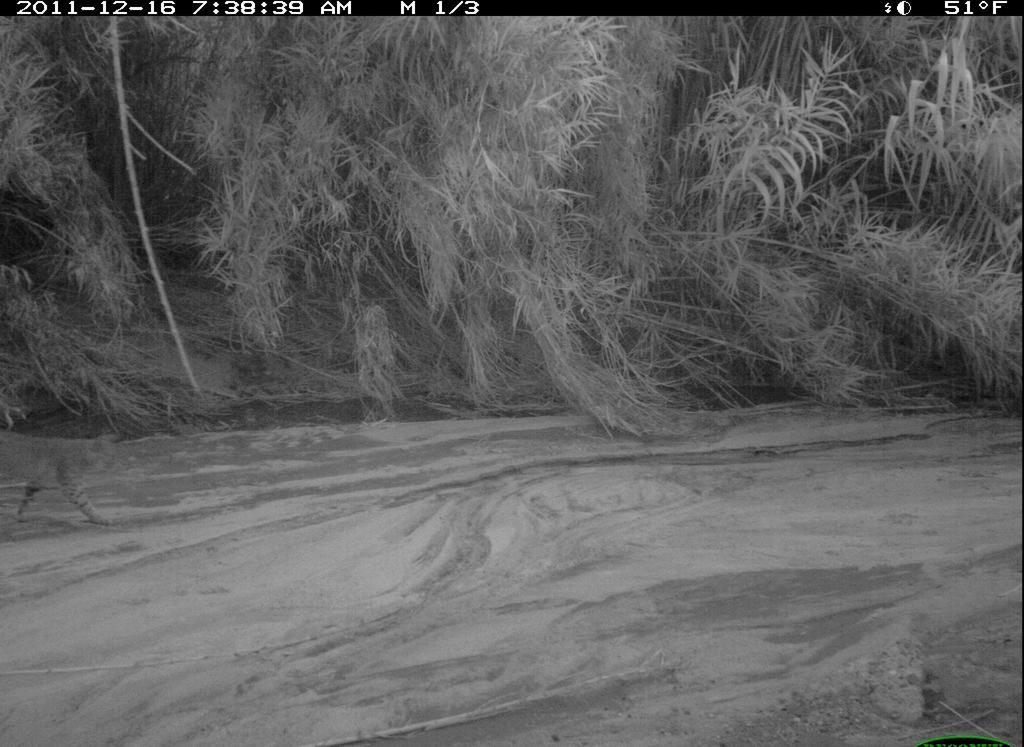bobcat: (1, 414, 134, 557)
